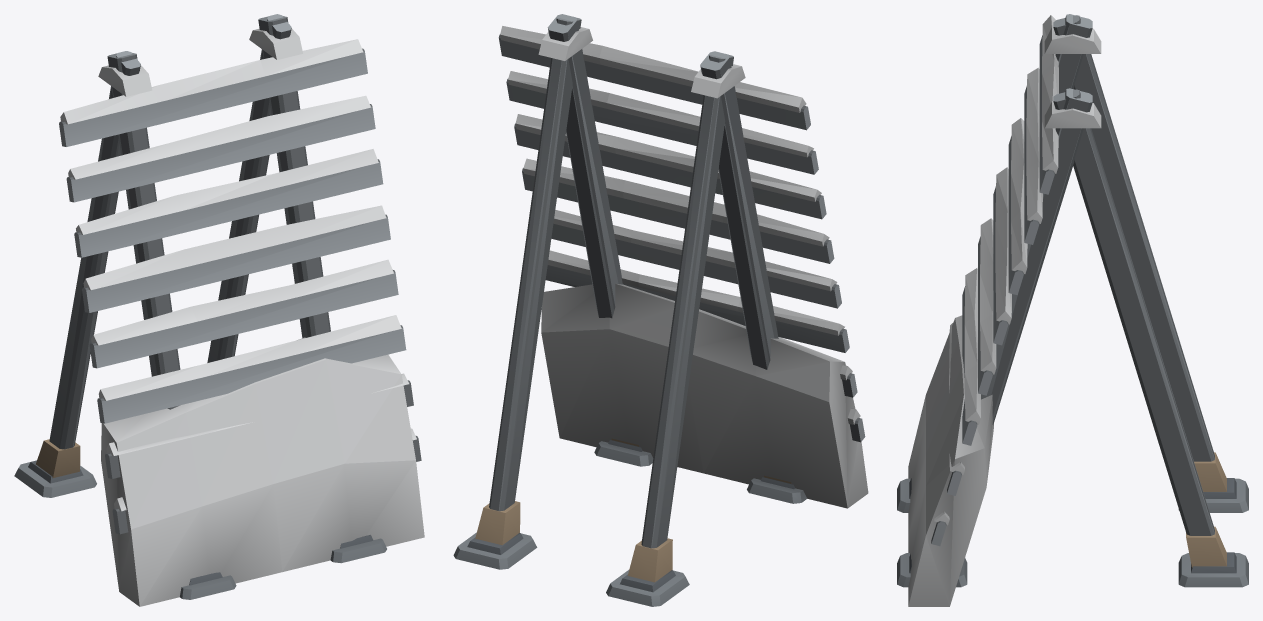
The model's file is barrier.glb.
The picture shows the model from 3 angles, left to right: view 1: azimuth 30°, elevation 25°; view 2: azimuth 150°, elevation 25°; view 3: azimuth 270°, elevation 25°; orthographic projection.
Parts seen in each view (by area): view 1: barrier.001; view 2: barrier.001; view 3: barrier.001.
Part boxes in pixels (x1,y1,x2,y2): barrier.001: [14, 14, 424, 606]; barrier.001: [453, 14, 868, 606]; barrier.001: [897, 14, 1248, 606].
Bounding box in the file's own units: 2 × 3.02 × 2.
